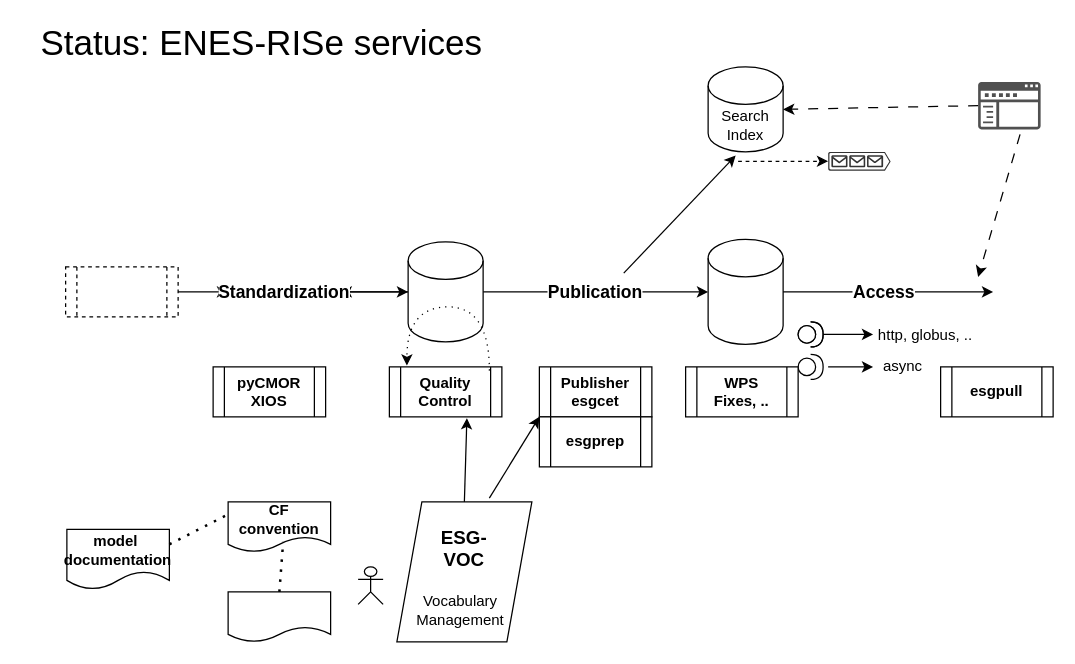
Some shapes in this 1075 by 664 pixel diagram are drawn without their labels. Each missing label, with the centre of its shape:
Actor: pixel 370 585
data request: pixel 279 616
ESGF Data Node: pixel 745 291
model run: pixel 121 291
portal: pixel 1009 105
